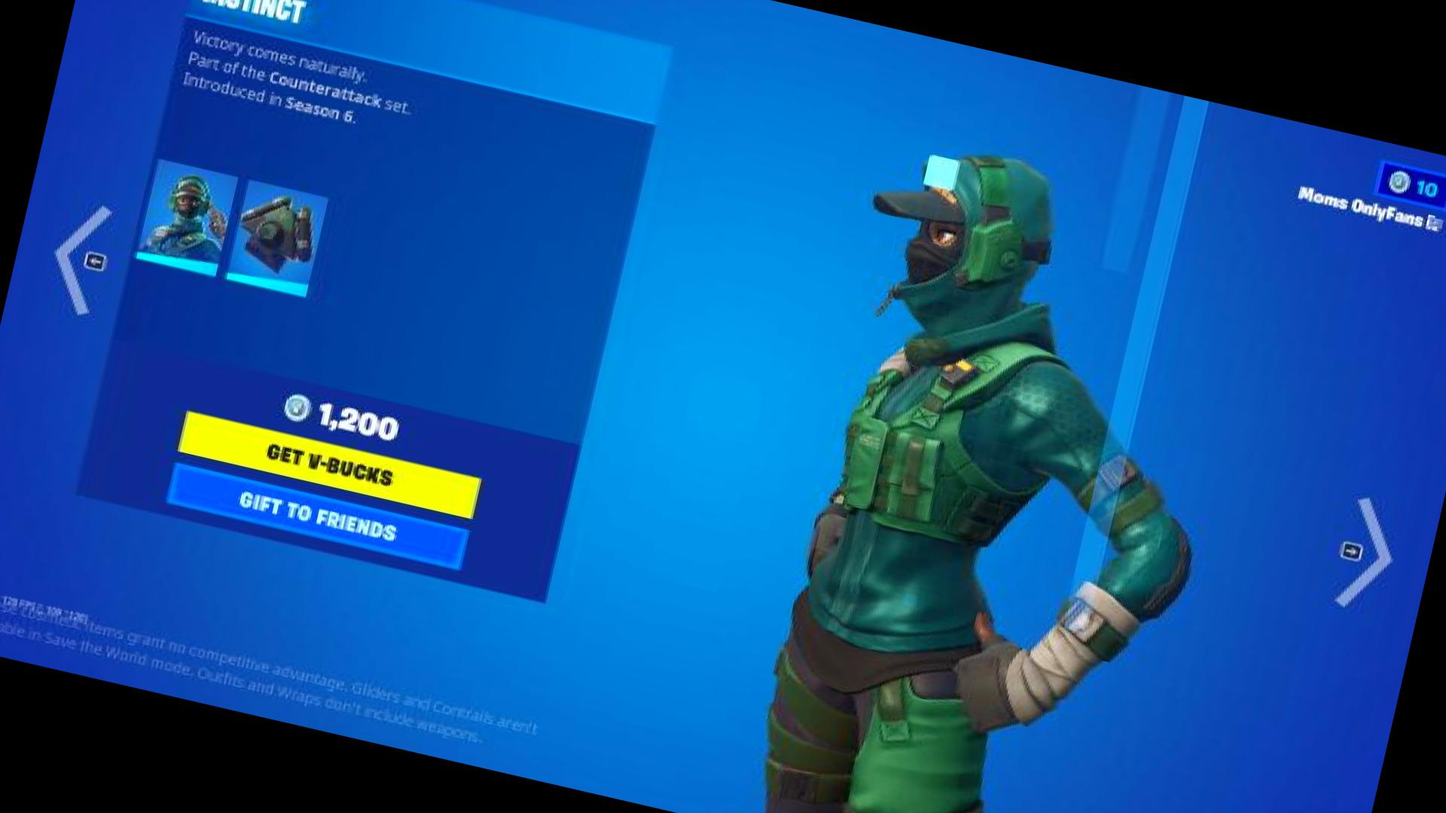player: (614, 92, 1255, 813)
